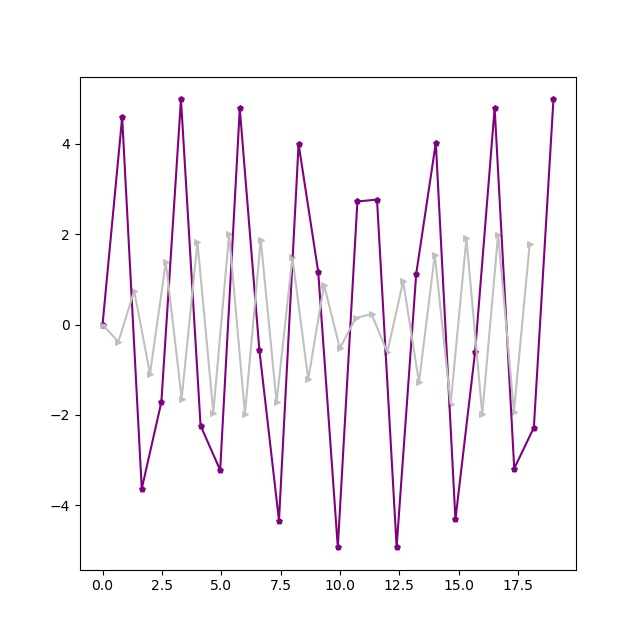pentagon: (99, 321, 108, 330), (118, 113, 127, 122), (138, 485, 147, 494), (157, 398, 166, 407), (177, 95, 186, 104), (197, 422, 206, 431), (216, 466, 225, 475), (236, 104, 245, 113), (255, 346, 264, 355), (275, 517, 284, 526), (295, 140, 304, 149), (314, 268, 323, 277), (334, 543, 343, 552), (353, 197, 362, 206), (373, 196, 382, 205), (393, 543, 402, 552), (412, 270, 421, 279), (432, 139, 441, 148), (451, 515, 460, 524), (471, 348, 480, 357), (491, 104, 500, 113), (510, 465, 519, 474), (530, 424, 539, 433), (549, 95, 558, 104)
triangle_right: (99, 321, 108, 330), (114, 338, 123, 347), (130, 287, 139, 296), (146, 370, 155, 379), (162, 258, 171, 267), (178, 395, 187, 404), (193, 238, 202, 247), (209, 409, 218, 418), (225, 230, 234, 239), (241, 410, 250, 419), (257, 236, 266, 245), (273, 398, 282, 407), (288, 253, 297, 262), (304, 375, 313, 384), (320, 281, 329, 290), (336, 344, 345, 353), (352, 314, 361, 323), (368, 310, 377, 319), (383, 348, 392, 357), (399, 277, 408, 286), (415, 378, 424, 387), (431, 251, 440, 260), (447, 400, 456, 409), (462, 234, 471, 243), (478, 410, 487, 419), (494, 231, 503, 240), (510, 408, 519, 417), (526, 240, 535, 249)
